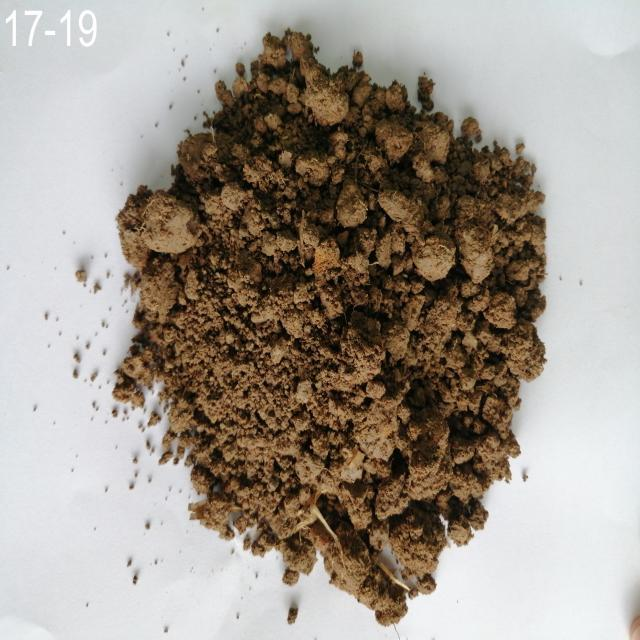soil: (204, 173, 453, 522)
